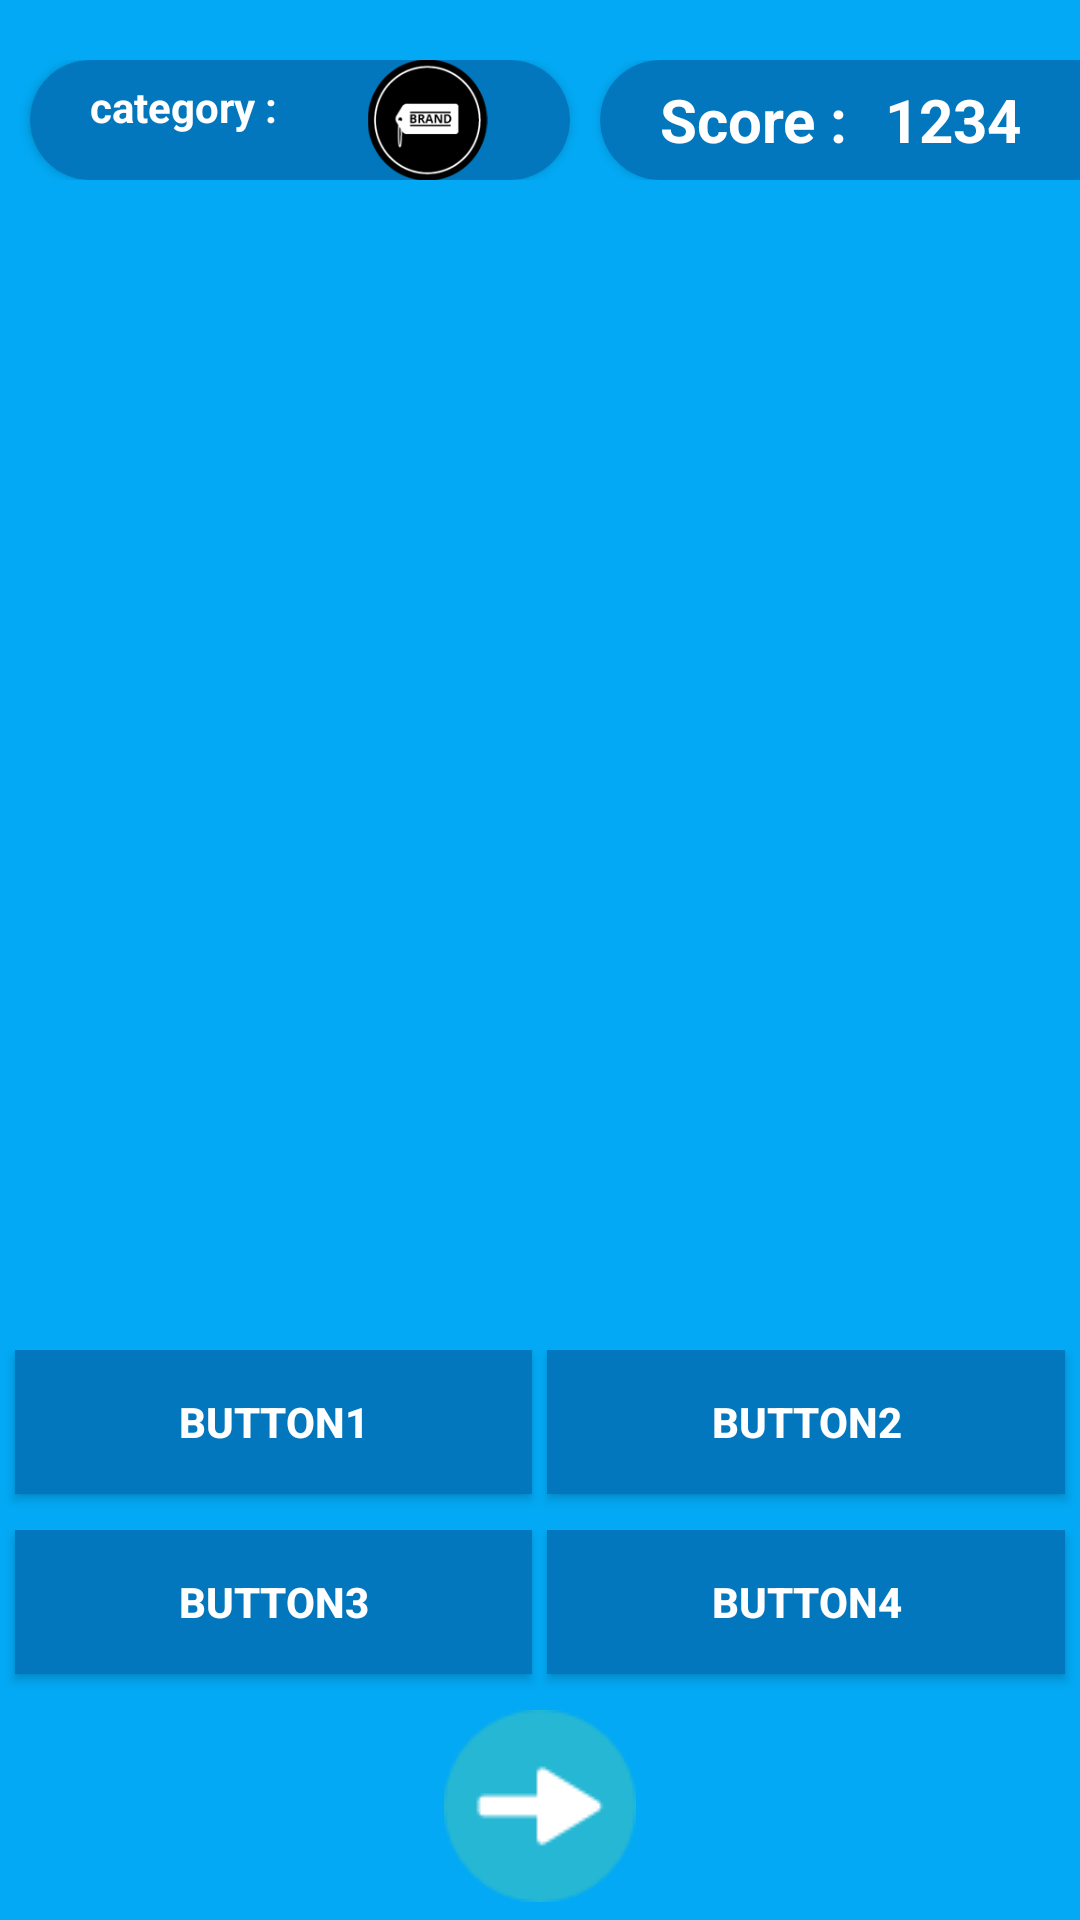

Point at icon controls on the screen. Image size 1080px×1920px, points as (x,y).
next: (540,1806)
